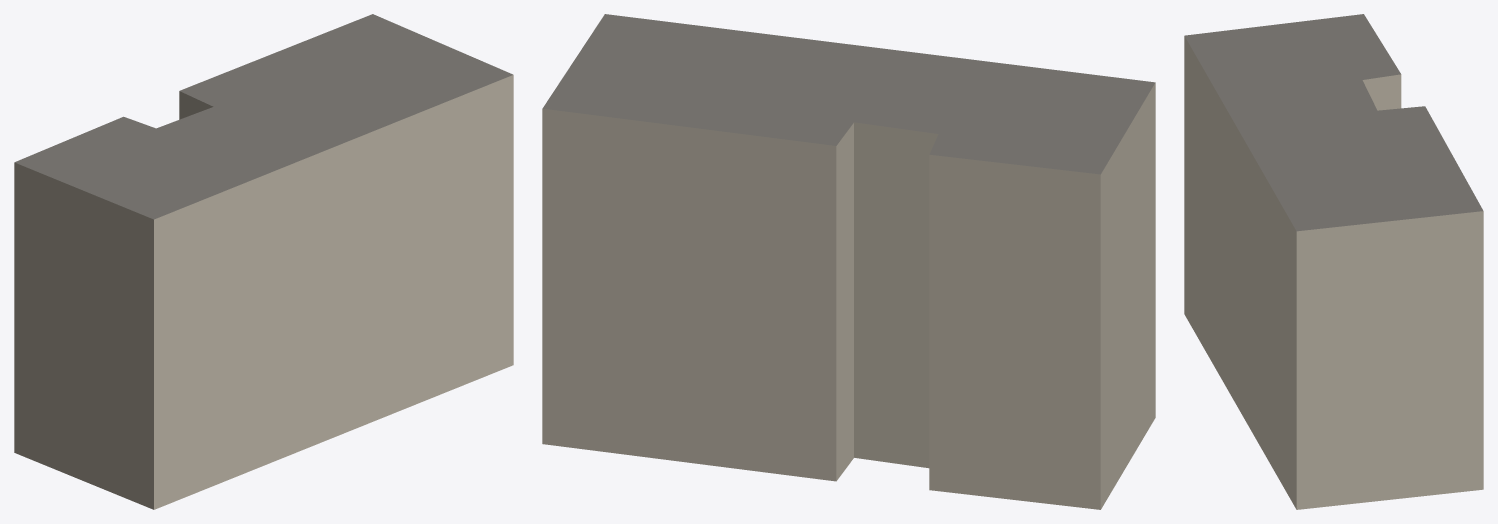
3 views of the same model, side by side, from view 1: azimuth 30°, elevation 25°; view 2: azimuth 150°, elevation 25°; view 3: azimuth 270°, elevation 25° (orthographic). The views are drawn at different scales.
Visible parts, largest first — view 1: HP-w505643618; view 2: HP-w505643618; view 3: HP-w505643618.
Part boxes in pixels (box(x1,y1,x2,y2)): HP-w505643618: box(14, 14, 513, 509); HP-w505643618: box(542, 14, 1155, 509); HP-w505643618: box(1184, 14, 1483, 509).
Size of the model in its own units: 25.1 by 15 by 14.6.
